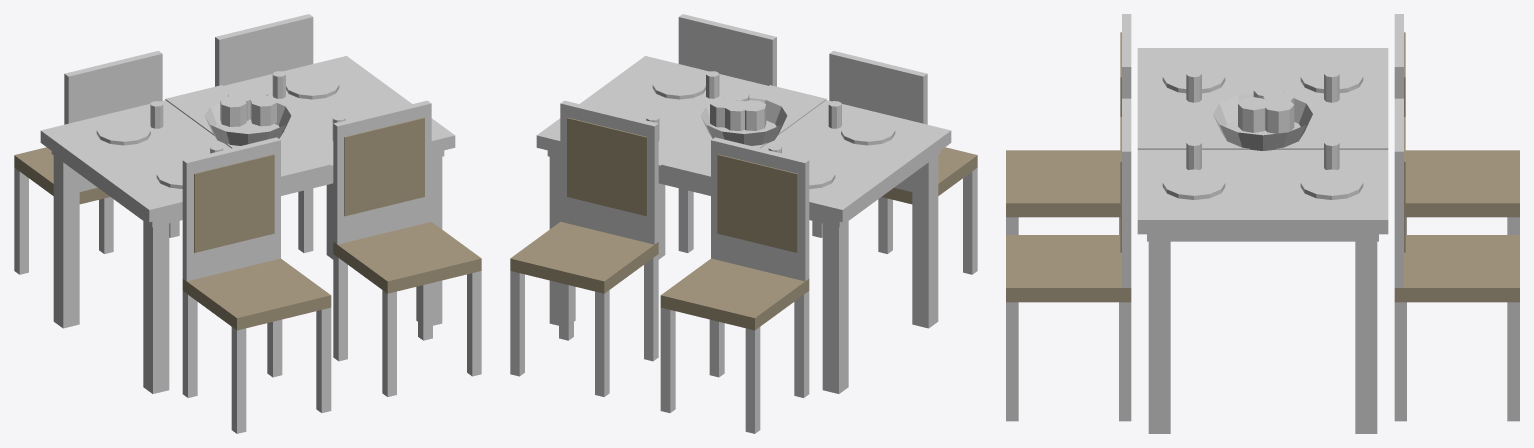
Rendered from dining-laid.glb.
3 renders of one model, left to right at view 1: azimuth 30°, elevation 25°; view 2: azimuth 150°, elevation 25°; view 3: azimuth 270°, elevation 25°, orthographic. The views are drawn at different scales.
Parts seen in each view (by area): view 1: dining-laid; view 2: dining-laid; view 3: dining-laid.
Part boxes in pixels (x1,y1,x2,y2): dining-laid: (14,14,481,433); dining-laid: (510,14,977,433); dining-laid: (1006,14,1519,433).
Bounding box in the file's own units: 1.49 × 1.09 × 1.89.
